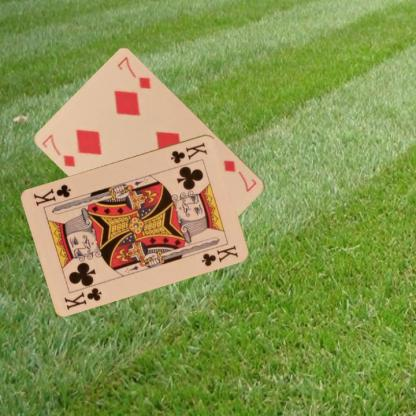7d: (39, 131, 77, 168), (221, 157, 258, 194)
Kc: (61, 284, 104, 311), (168, 139, 209, 165)
